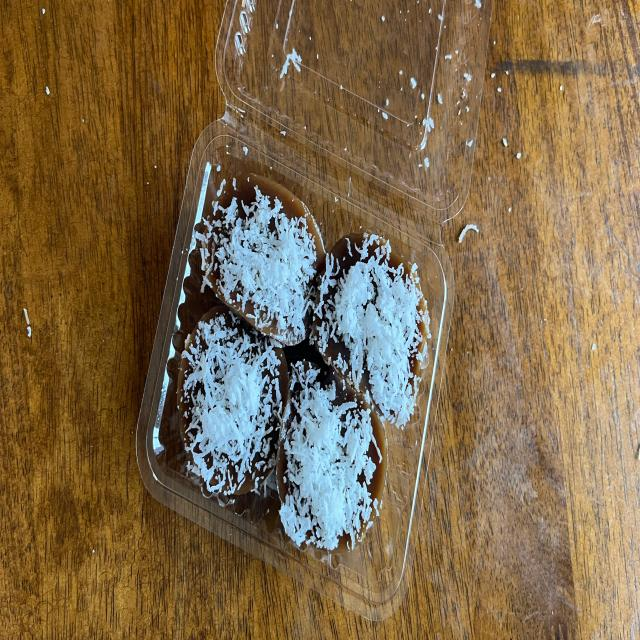Kuih lompang: (314, 233, 430, 427), (178, 307, 289, 504), (200, 176, 325, 344), (278, 360, 386, 551)
